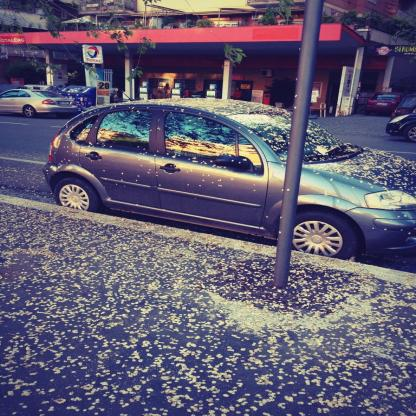Car: (43, 94, 416, 266), (1, 88, 78, 120), (362, 91, 406, 116), (383, 112, 416, 142)
